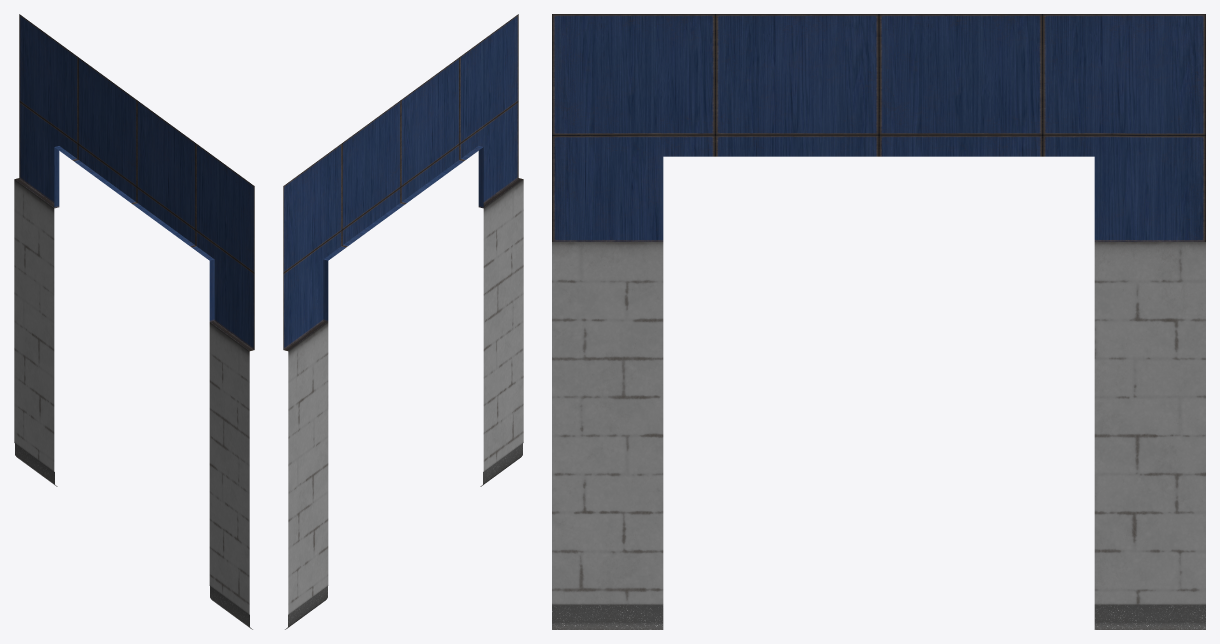
Rendered from Cafateria 4m Door A.fbx.
3 renders of one model, left to right at view 1: azimuth 30°, elevation 25°; view 2: azimuth 150°, elevation 25°; view 3: azimuth 270°, elevation 25°, orthographic. The views are drawn at different scales.
Parts seen in each view (by area): view 1: Cafateria_4M_Door_A; view 2: Cafateria_4M_Door_A; view 3: Cafateria_4M_Door_A.
Boxes of the visible parts, <box> form: Cafateria_4M_Door_A: <box>14,14,254,629</box>; Cafateria_4M_Door_A: <box>283,14,523,629</box>; Cafateria_4M_Door_A: <box>552,14,1205,629</box>.
Bounding box in the file's own units: 5 × 416 × 400.
